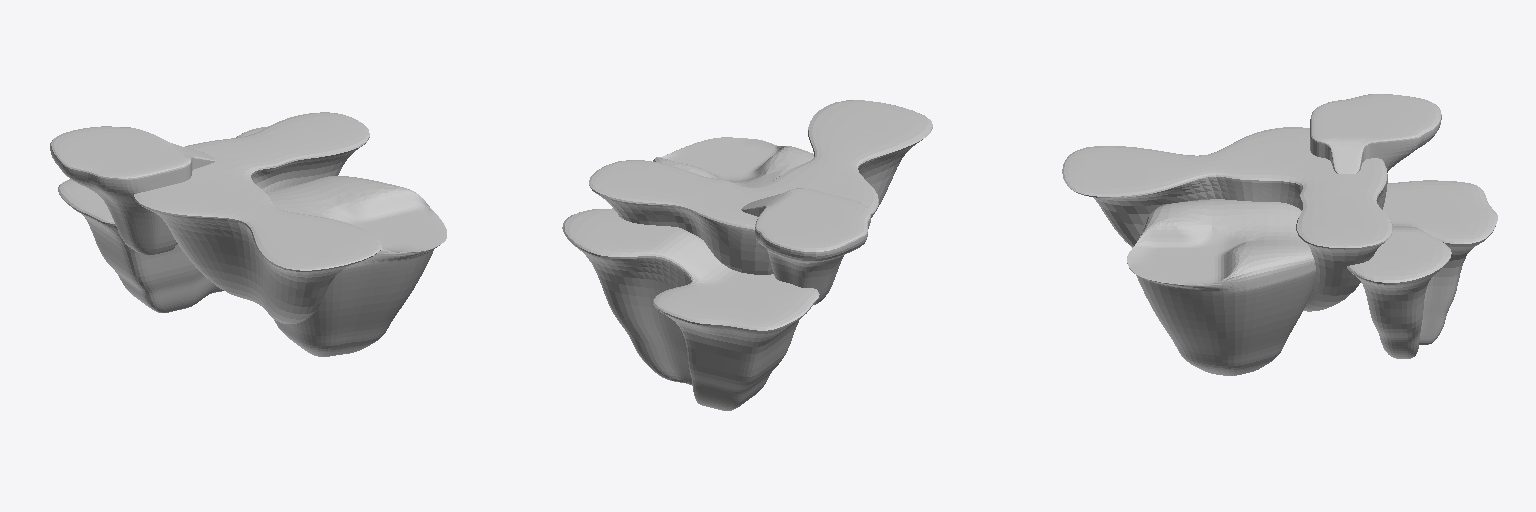
Rendered from Lylas Island 3.obj.
The picture shows the model from 3 angles: view 1: azimuth 30°, elevation 25°; view 2: azimuth 150°, elevation 25°; view 3: azimuth 270°, elevation 25°; orthographic projection.
Parts seen in each view (by area): view 1: Cube.008_Cube.007, Cube.011_Cube.014, Cube.009_Cube.012, Cube.010_Cube.013; view 2: Cube.010_Cube.013, Cube.008_Cube.007, Cube.009_Cube.012, Cube.011_Cube.014; view 3: Cube.008_Cube.007, Cube.011_Cube.014, Cube.010_Cube.013, Cube.009_Cube.012.
Part boxes in pixels (x1,y1,x2,y2): Cube.008_Cube.007: (133, 112, 381, 323); Cube.011_Cube.014: (267, 176, 446, 356); Cube.009_Cube.012: (50, 126, 215, 255); Cube.010_Cube.013: (58, 126, 268, 312); Cube.010_Cube.013: (562, 208, 819, 410); Cube.008_Cube.007: (589, 100, 932, 274); Cube.009_Cube.012: (741, 188, 870, 304); Cube.011_Cube.014: (653, 137, 813, 186); Cube.008_Cube.007: (1062, 127, 1392, 311); Cube.011_Cube.014: (1127, 199, 1315, 375); Cube.010_Cube.013: (1347, 180, 1497, 358); Cube.009_Cube.012: (1310, 94, 1441, 173).
Size of the model in its own units: 36.53 by 22.54 by 47.65.